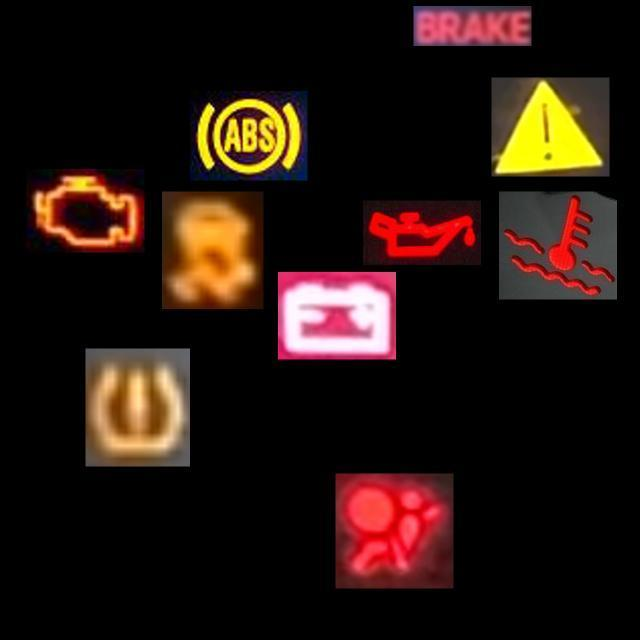Central Warning lamp: (492, 77, 610, 176)
Engine cooling system: (499, 192, 617, 300)
